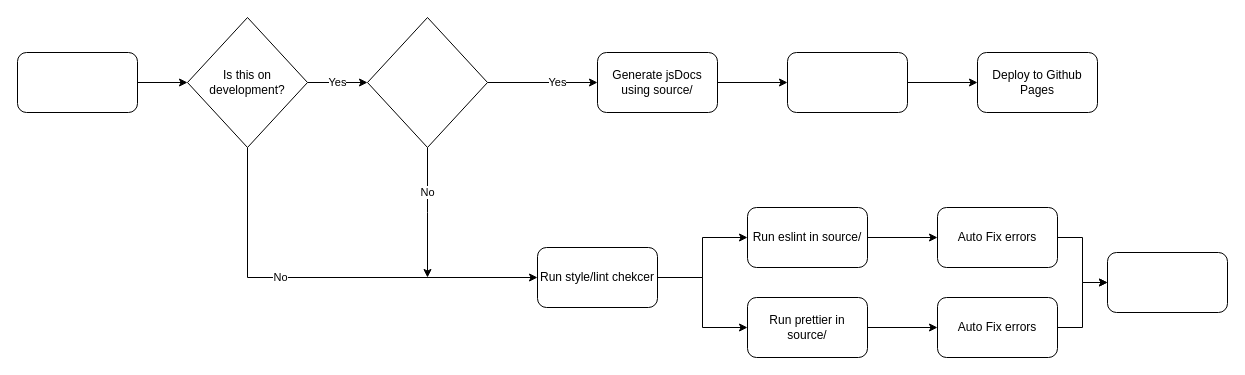
Some shapes in this 1245 by 375 pixel diagram are drawn without their labels. Here are the shapes that lost their labels. From the top down, the centre of each, then its label:
At (x=77, y=82): "On Push/Pull request".
At (x=427, y=82): "Is this a push".
At (x=847, y=82): "Push newly generated documentation to remote repo".
At (x=1167, y=282): "Push changes to target branch".
